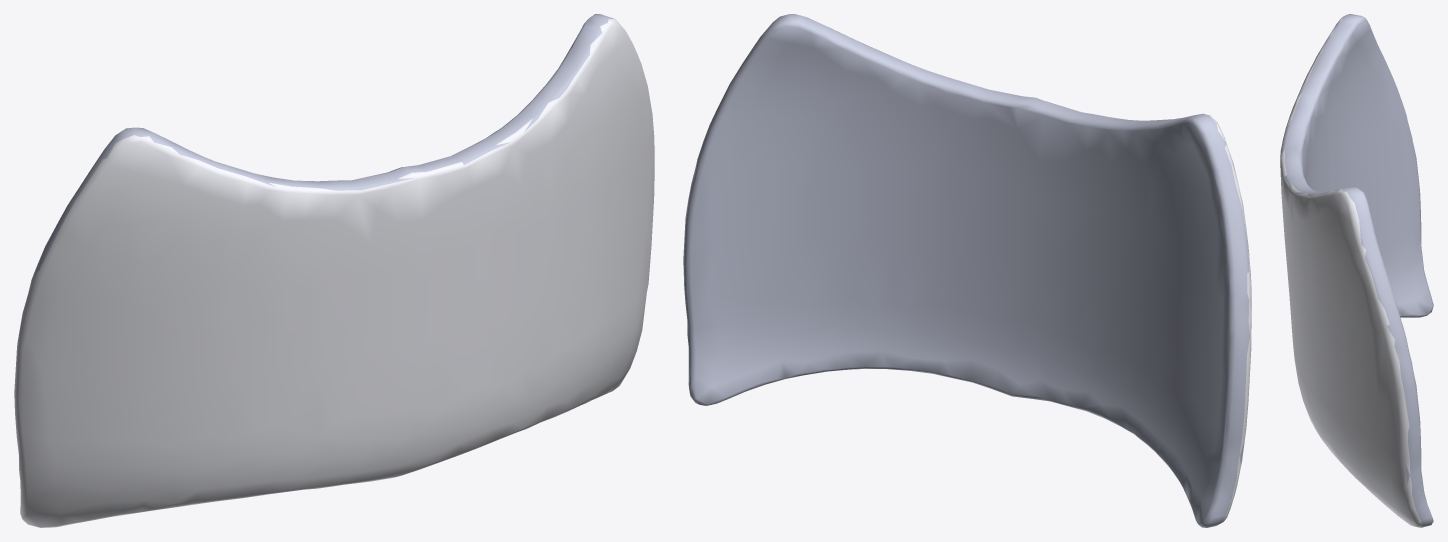
Rendered from plate-bow.glb.
3 renders of one model, left to right at view 1: azimuth 30°, elevation 25°; view 2: azimuth 150°, elevation 25°; view 3: azimuth 270°, elevation 25°, orthographic. The views are drawn at different scales.
Visible parts, largest first — view 1: plate-bow; view 2: plate-bow; view 3: plate-bow.
Part boxes in pixels (left/top/right/bottom): plate-bow: left=14, top=14, right=654, bottom=527; plate-bow: left=683, top=14, right=1251, bottom=527; plate-bow: left=1280, top=14, right=1433, bottom=527.
Size of the model in its own units: 0.5745 by 0.358 by 0.1573.
